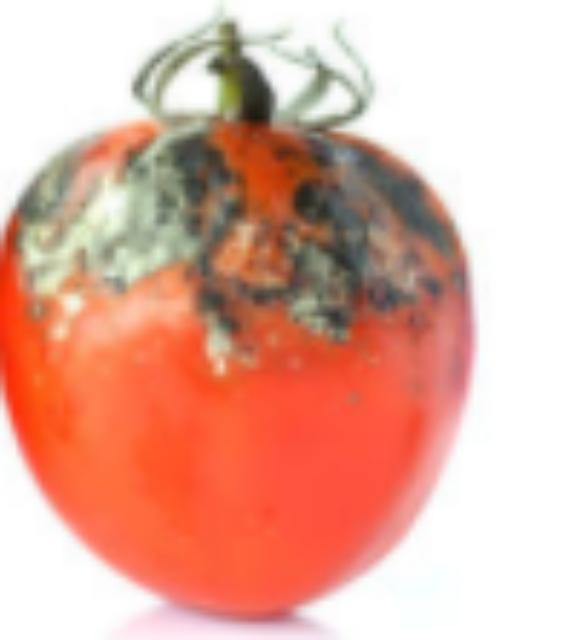defect: (0, 3, 477, 623)
